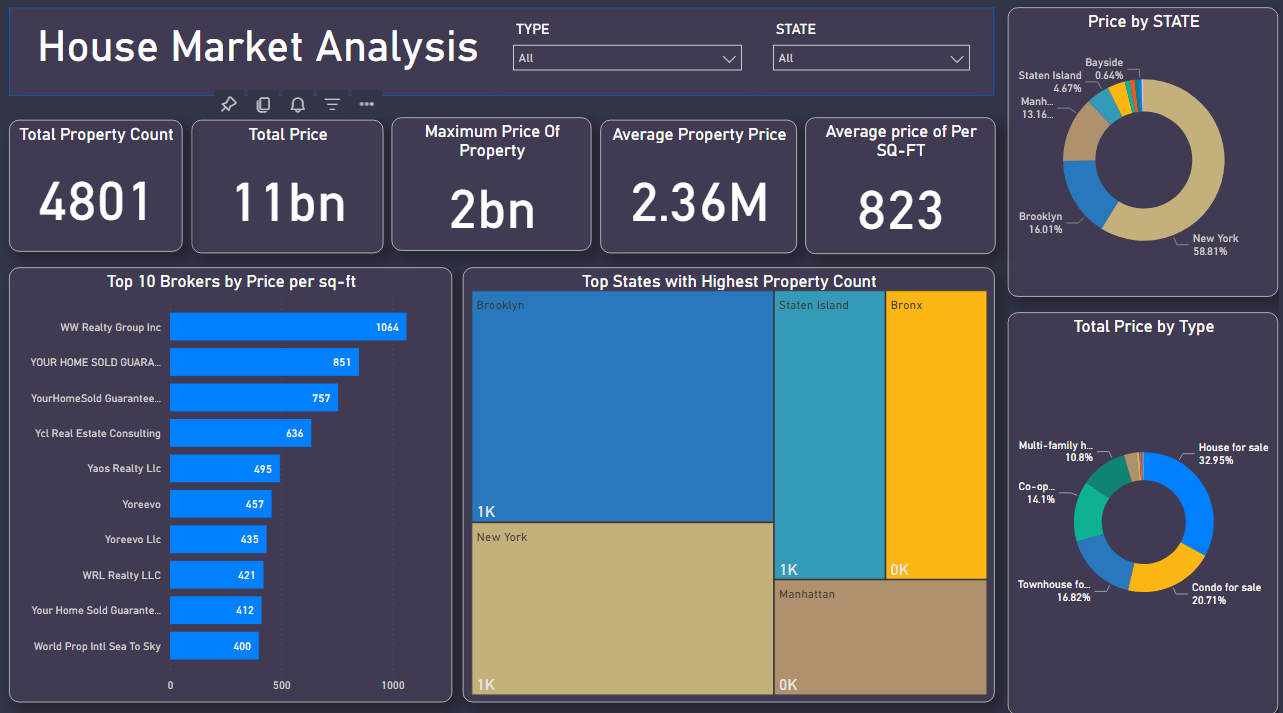

The dashboard page shown, as its layout file describes it:
{"tool":"powerbi","page":{"name":"Page 1","canvas":[1280,720],"ordinal":0},"visuals":[{"type":"shape","box":[9.7,11.3,985.4,89],"z":0},{"type":"card","title":"Total Price","fields":{"Values":["NY-House-Dataset.Total Price"]},"box":[192.1,123.3,191.7,133.3],"z":1000},{"type":"card","title":"Maximum Price Of Property","fields":{"Values":["Max(NY-House-Dataset.PRICE)"]},"box":[392.5,121.7,200,133.3],"z":2000},{"type":"card","title":"Average Property Price","fields":{"Values":["Avg(NY-House-Dataset.PRICE)"]},"box":[601.2,123.3,196.7,133.3],"z":3000},{"type":"card","title":"Total Property Count","fields":{"Values":["NY-House-Dataset.Total Property"]},"box":[10,123.3,173.3,131.7],"z":4000},{"type":"donutChart","title":"Price by STATE","fields":{"Category":["NY-House-Dataset.STATE"],"Y":["NY-House-Dataset.Total Price"]},"box":[1008.9,10.9,270.6,289.4],"z":5000},{"type":"slicer","fields":{"Values":["NY-House-Dataset.TYPE"]},"box":[503.2,19.4,249.2,74.4],"z":6000},{"type":"slicer","fields":{"Values":["NY-House-Dataset.STATE"]},"box":[763.7,19.4,216.8,74.4],"z":7000},{"type":"card","title":"Average price of Per SQ-FT","fields":{"Values":["Avg(NY-House-Dataset.Price Per sqft)"]},"box":[806.7,121.7,190,136.7],"z":8000},{"type":"donutChart","title":"Total Price by Type","fields":{"Category":["NY-House-Dataset.TYPE"],"Y":["NY-House-Dataset.Total Price"]},"box":[1008.9,316,270.6,403.6],"z":9000},{"type":"textbox","box":[24.3,19.4,470.8,74.4],"z":10001},{"type":"barChart","title":"Top 10 Brokers by Price per sq-ft","fields":{"Category":["NY-House-Dataset.Broker Name"],"Y":["Sum(NY-House-Dataset.Price Per sqft)"]},"box":[10,271.7,443.3,435],"z":10002},{"type":"treemap","title":"Top States with Highest Property Count","fields":{"Group":["NY-House-Dataset.STATE"],"Values":["NY-House-Dataset.Total Property"]},"box":[463.3,271.7,531.7,435],"z":10003}]}

Visuals, with their boxes on the page's 1280x720 design canvas (x1, y1, x2, y2). These are canvas units, not pixel positions in the 1283x713 screenshot, which may show the page scaled, cropped or inside an application window:
shape: (10,11,995,100)
"Total Price" card: (192,123,384,257)
"Maximum Price Of Property" card: (392,122,592,255)
"Average Property Price" card: (601,123,798,257)
"Total Property Count" card: (10,123,183,255)
"Price by STATE" donutChart: (1009,11,1280,300)
slicer - NY-House-Dataset.TYPE: (503,19,752,94)
slicer - NY-House-Dataset.STATE: (764,19,980,94)
"Average price of Per SQ-FT" card: (807,122,997,258)
"Total Price by Type" donutChart: (1009,316,1280,720)
textbox: (24,19,495,94)
"Top 10 Brokers by Price per sq-ft" barChart: (10,272,453,707)
"Top States with Highest Property Count" treemap: (463,272,995,707)
